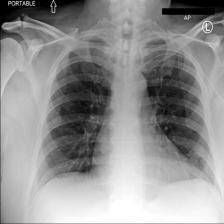normal: (30, 30, 220, 198)
